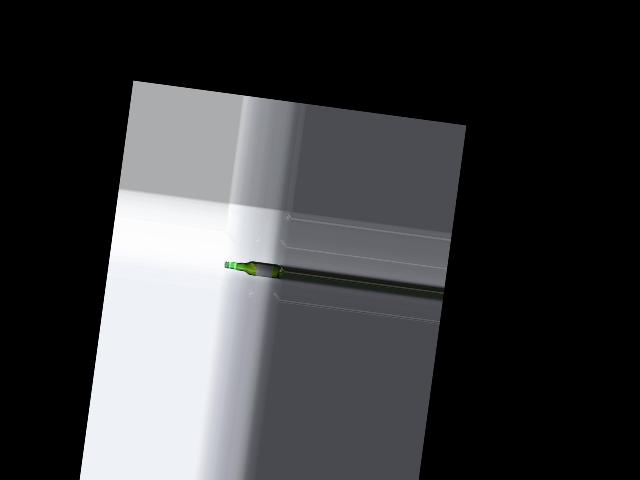beer: (224, 257, 280, 278)
